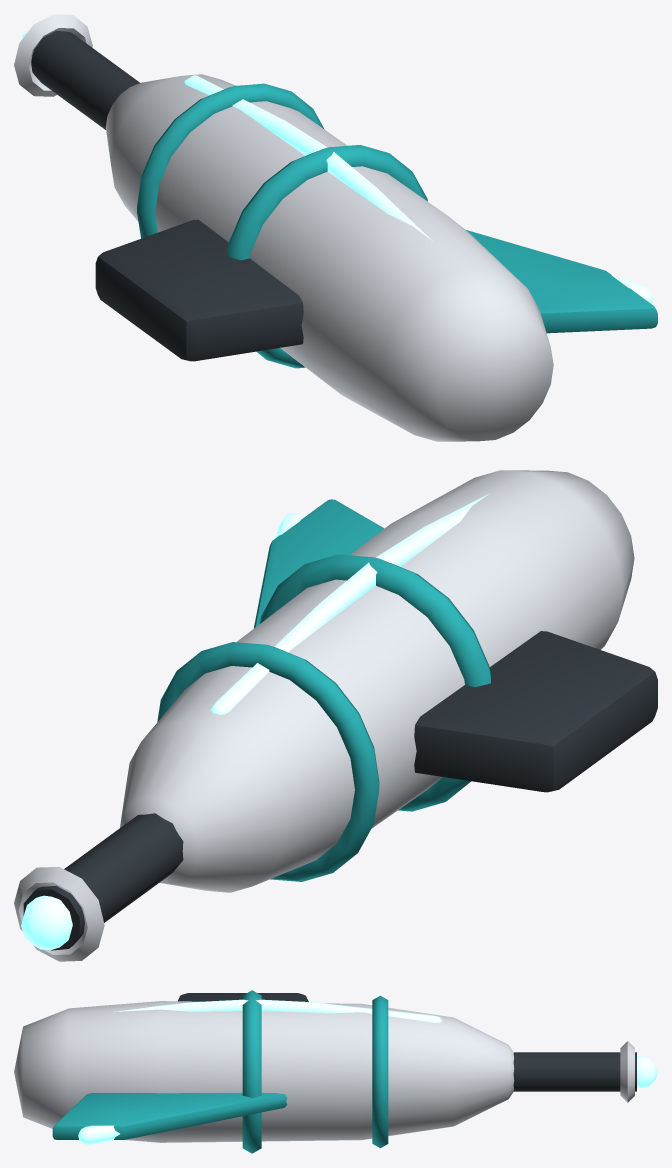
Rendered from pod_side.glb.
3 renders of one model, top to bottom at view 1: azimuth 30°, elevation 25°; view 2: azimuth 150°, elevation 25°; view 3: azimuth 270°, elevation 25°, orthographic. The views are drawn at different scales.
Parts seen in each view (by area): view 1: pod_side; view 2: pod_side; view 3: pod_side.
Part boxes in pixels (x1,y1,x2,y2): pod_side: [14, 14, 657, 441]; pod_side: [14, 470, 657, 961]; pod_side: [14, 990, 657, 1153].
Bounding box in the file's own units: 0.3449 × 0.18 × 0.703.
